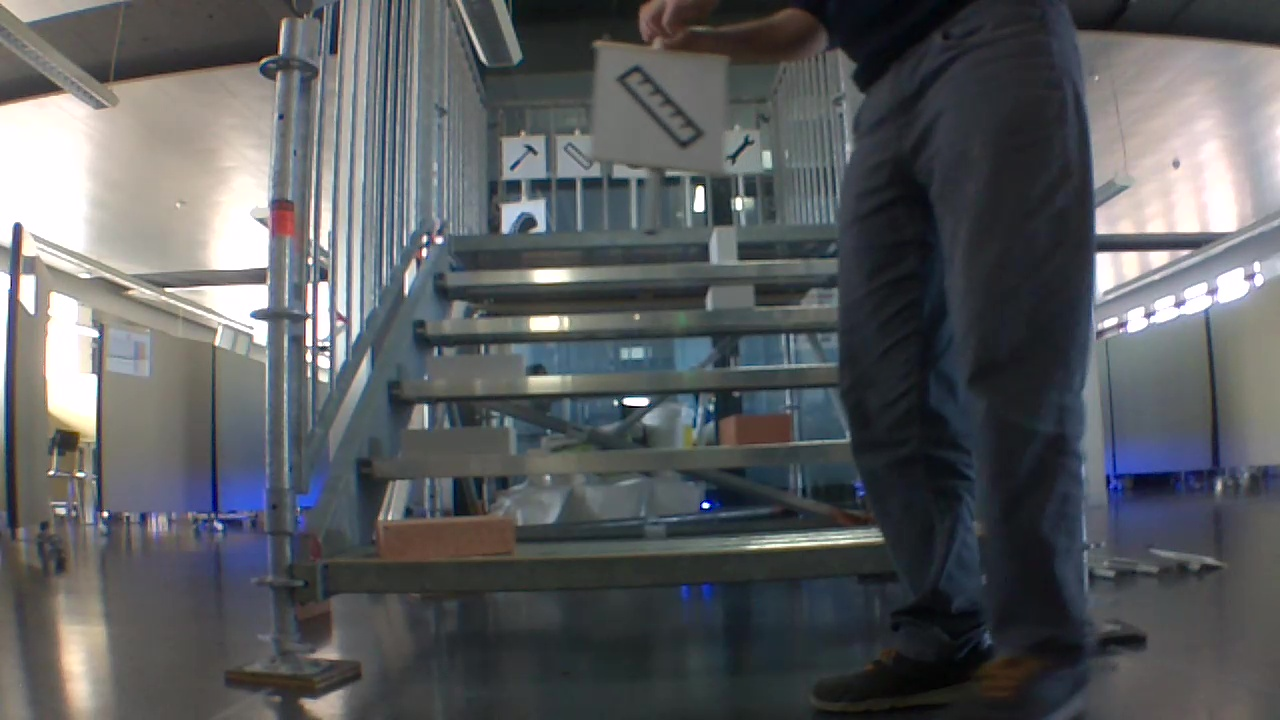brick: (365, 515, 524, 559), (397, 423, 514, 459), (716, 412, 798, 449), (428, 353, 531, 381), (697, 282, 754, 304), (708, 225, 736, 266)
edge: (322, 540, 887, 599), (344, 441, 854, 486), (388, 365, 847, 396), (452, 221, 842, 249), (417, 307, 846, 332), (436, 267, 854, 287)
hammer: (508, 145, 539, 175)
ruler: (614, 60, 706, 148), (565, 141, 591, 173)
taco: (509, 208, 540, 234)
wrench: (727, 133, 757, 164)
